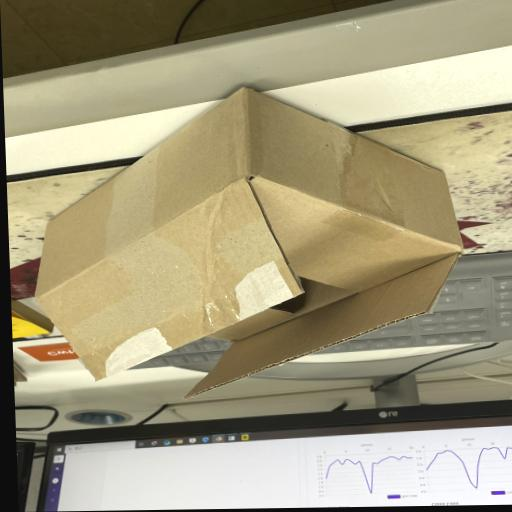box: (34, 85, 465, 401)
opened: (34, 174, 466, 401)
